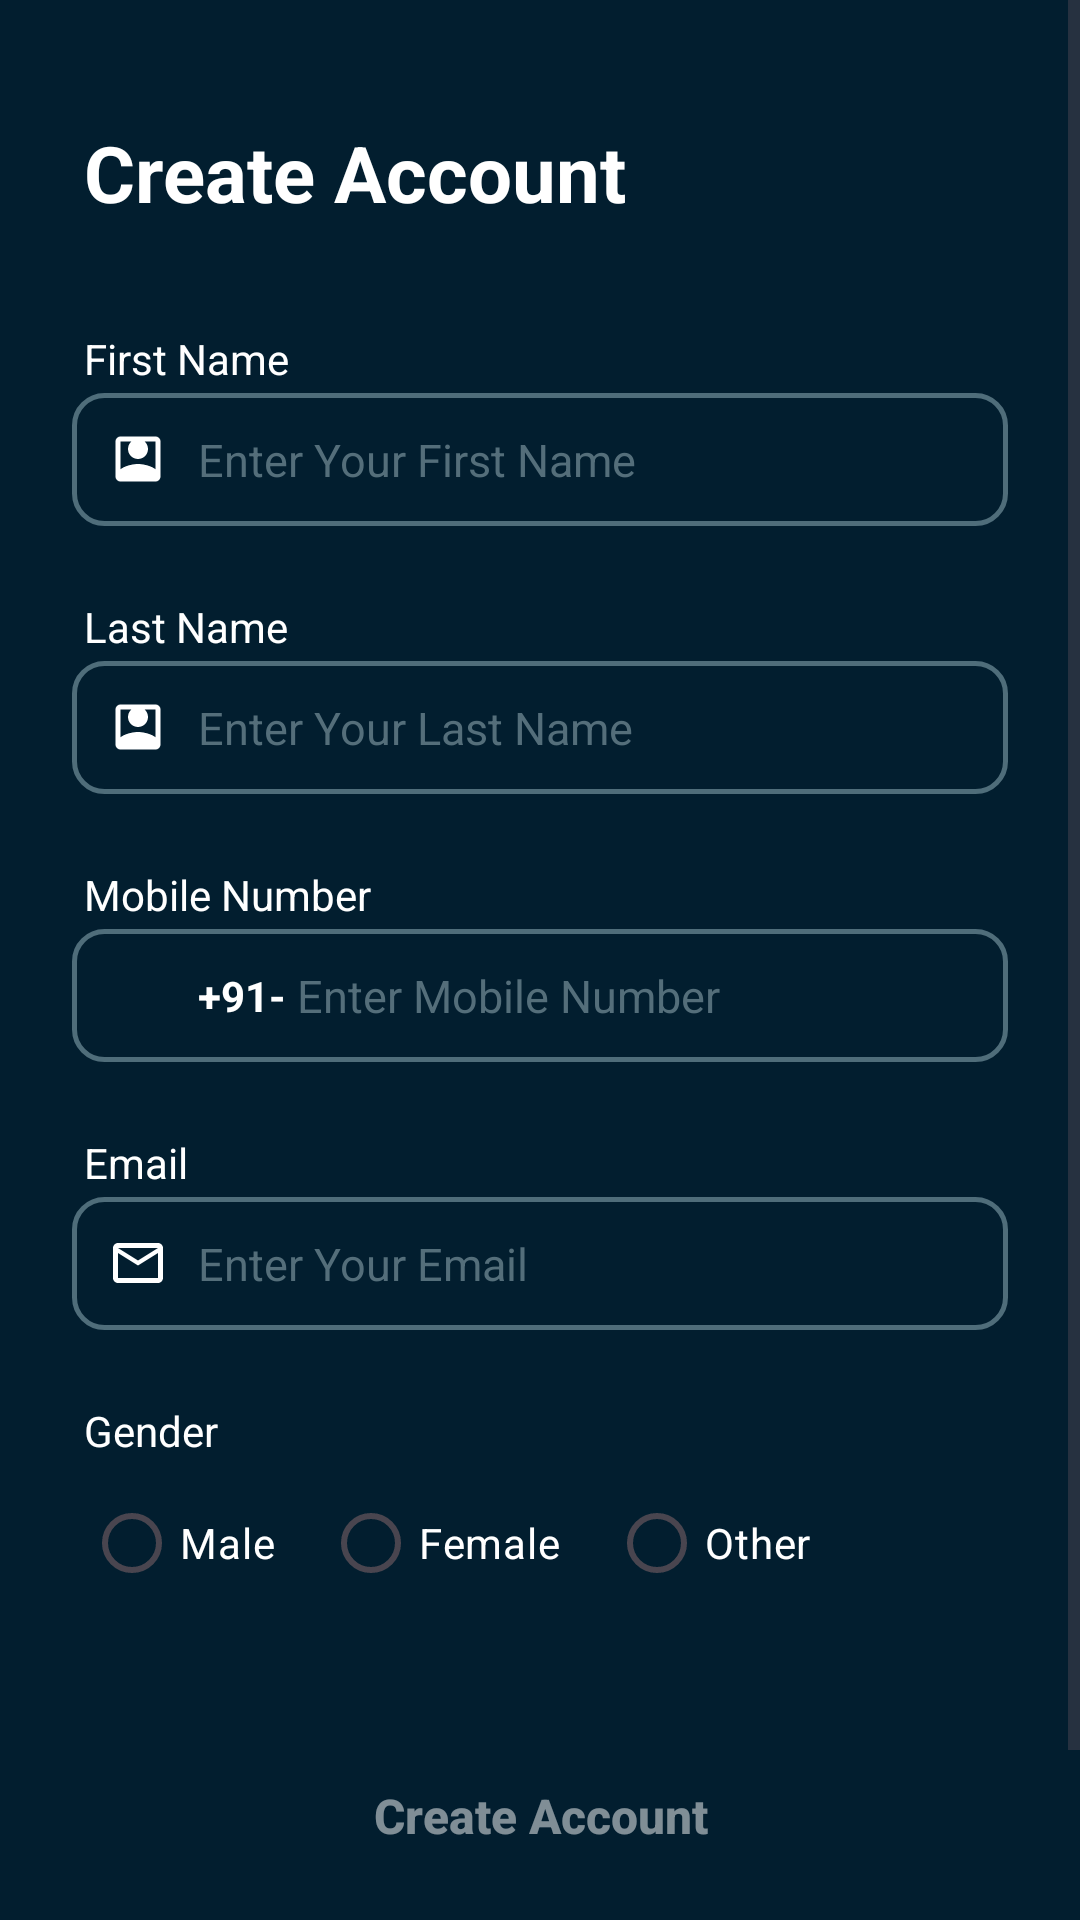

Where icons sit on this 1080 × 1920 app screen, as (x1, y1, x2, y2):
user: (115, 436, 161, 482), (115, 704, 161, 750)
